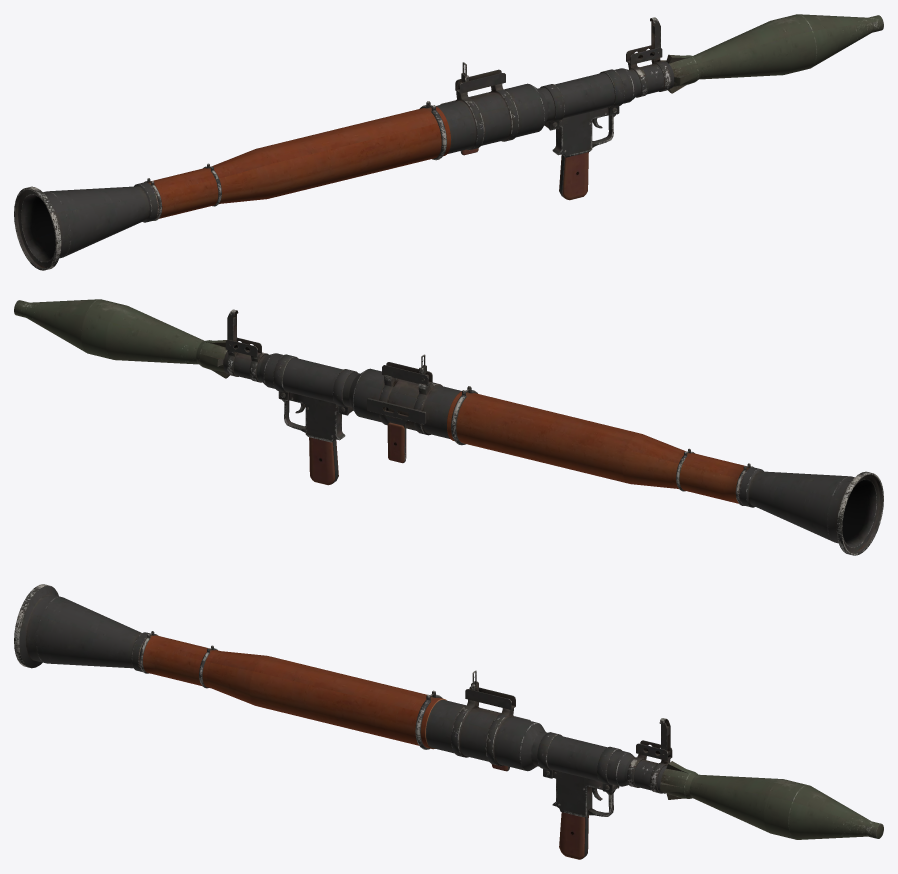
Rendered from rpg.glb.
3 views of the same model, one above another, from view 1: azimuth 30°, elevation 25°; view 2: azimuth 150°, elevation 25°; view 3: azimuth 330°, elevation 25° (orthographic).
Parts seen in each view (by area): view 1: Cylinder.039, Cylinder.000; view 2: Cylinder.039, Cylinder.000; view 3: Cylinder.039, Cylinder.000.
Part boxes in pixels (x1,y1,x2,y2): Cylinder.039: (14,17,674,270); Cylinder.000: (661,14,883,93); Cylinder.039: (223,309,883,555); Cylinder.000: (14,299,229,378); Cylinder.039: (14,584,672,859); Cylinder.000: (660,761,883,839).
Bounding box in the file's own units: 2 × 0.3533 × 0.1743.
1 material, 1 textured.
